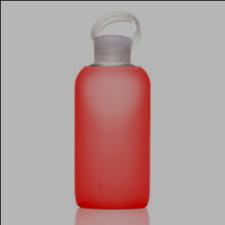Plastic: (71, 7, 152, 210)
